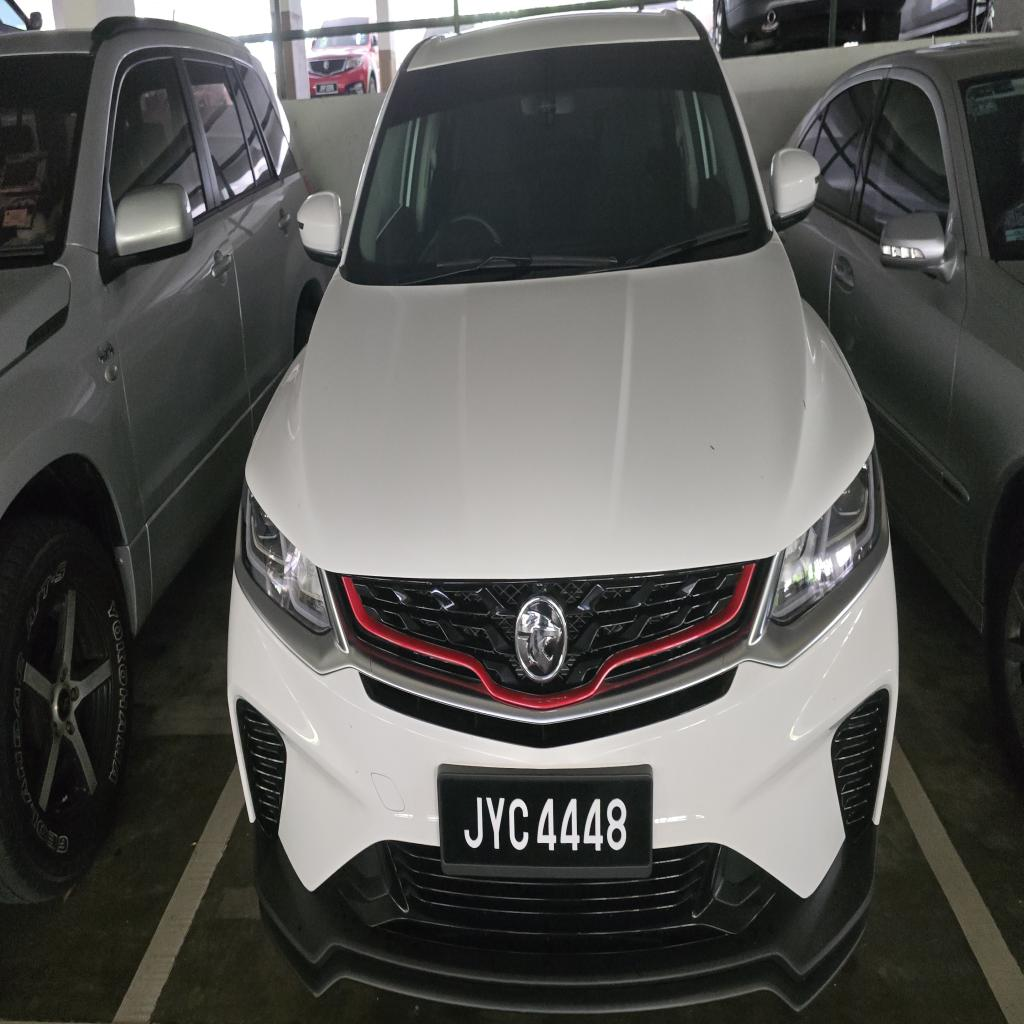car: (229, 13, 897, 1010)
car plate: (439, 766, 652, 878)
